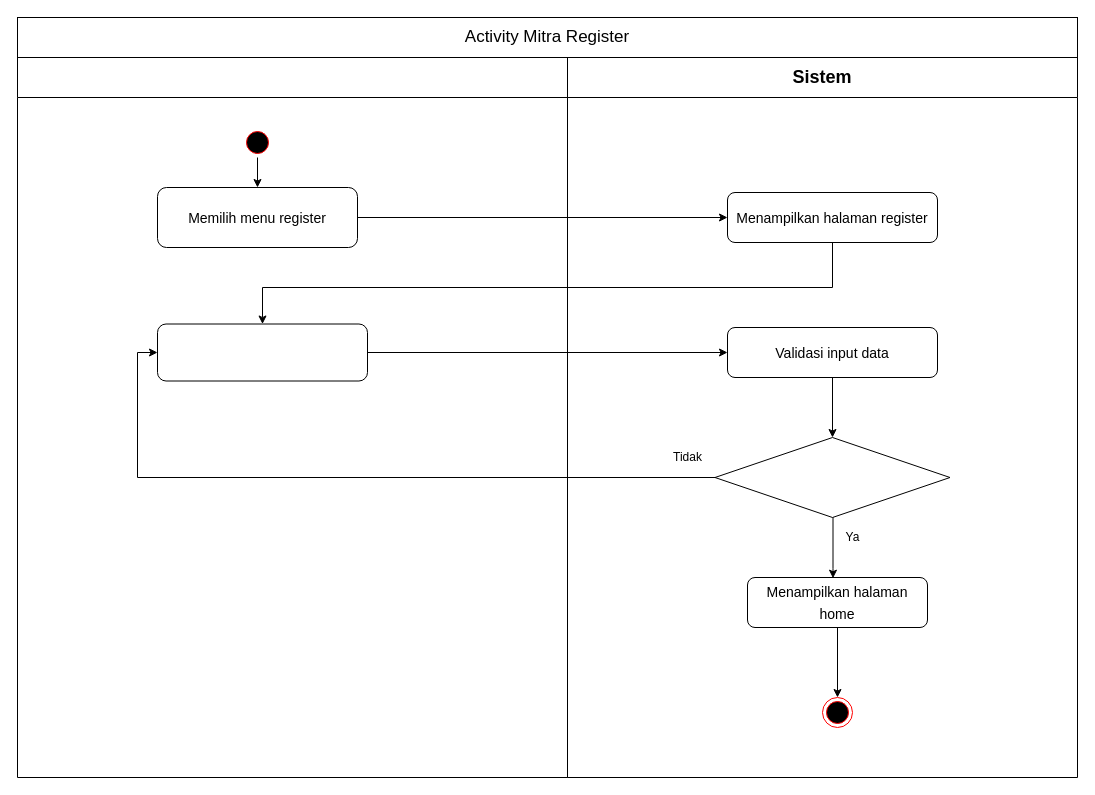
Some shapes in this 1095 by 795 pixel diagram are drawn without their labels. Here are the shapes that lost their labels. From the top down, the box of each, then its label:
(156, 323, 368, 381): Memasukkan data register
(16, 56, 568, 778): Mitra
(714, 436, 950, 518): Data sudah benar?
